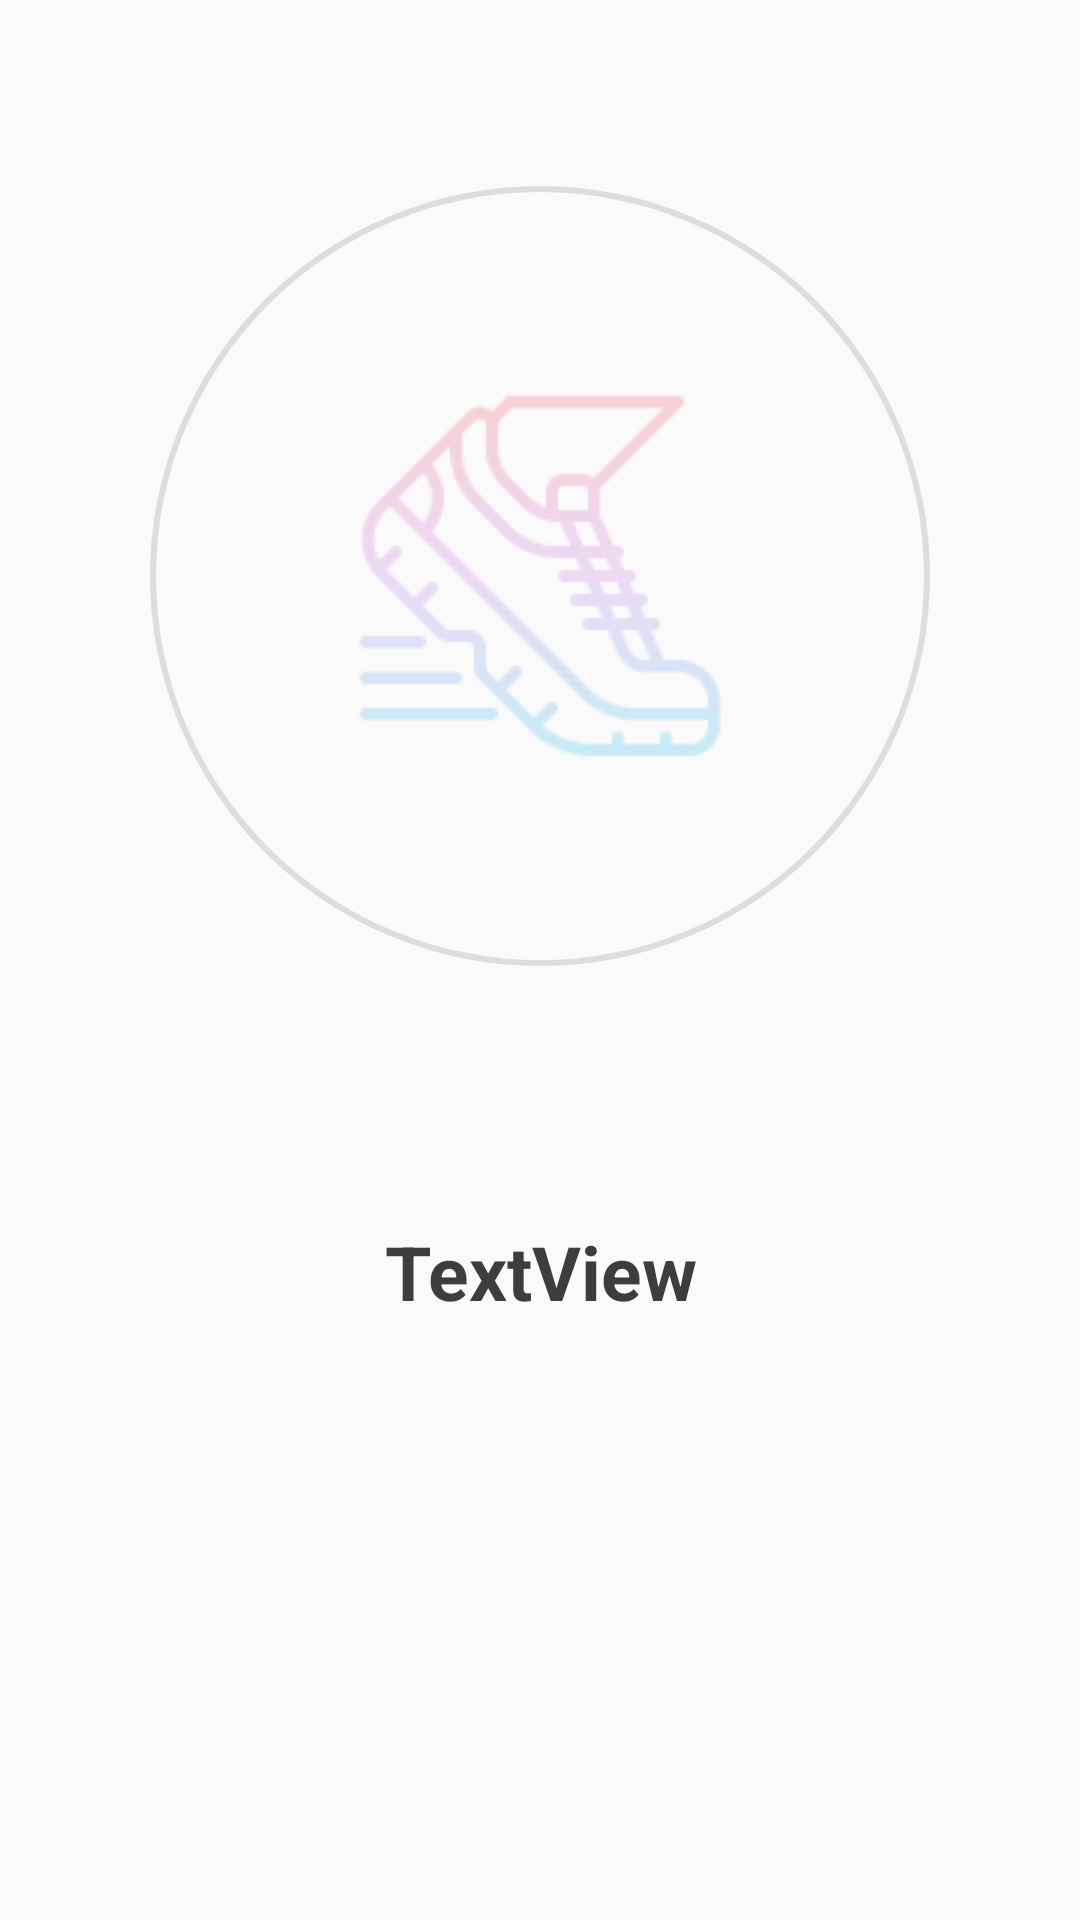

Icons on this 1080×1920 Android screen, each with the point to tap as [x,y]:
running: [540,576]
